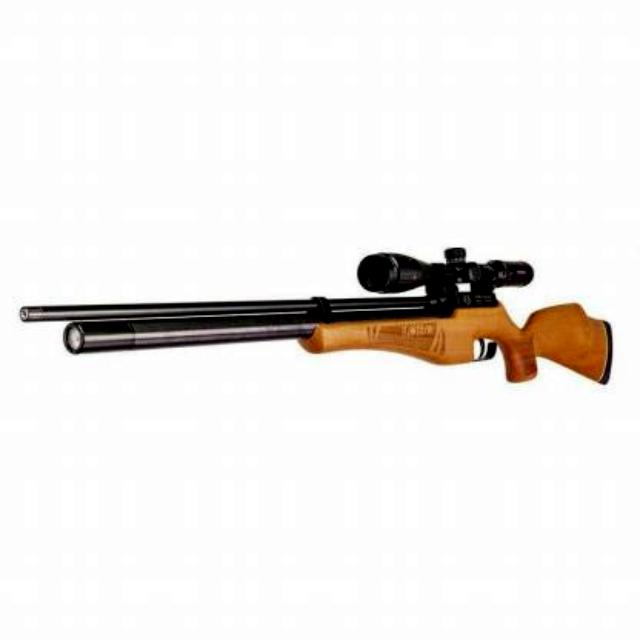rifle: (21, 250, 618, 390)
